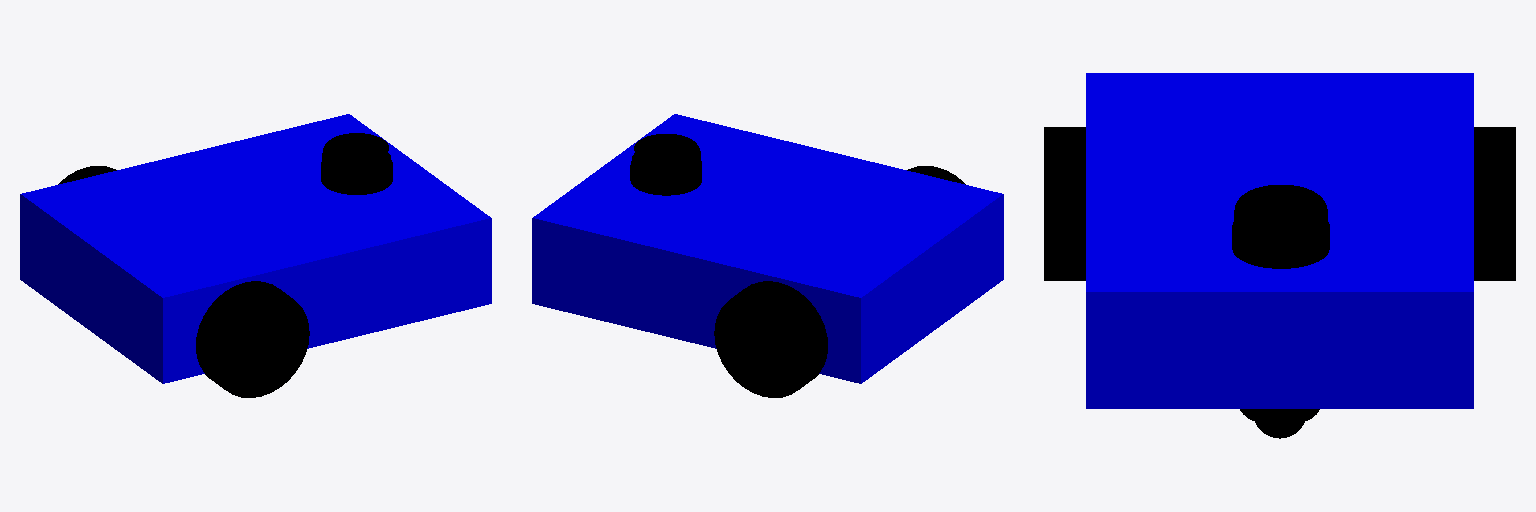
The robot description file, URDF, robot "Eissa":
<?xml version="1.0" ?>
<!-- =================================================================================== -->
<!-- |    This document was autogenerated by xacro from /home/mostafa/Downloads/ETGAH_ws/src/robot_gazebo/urdf/robot.urdf.xacro | -->
<!-- |    EDITING THIS FILE BY HAND IS NOT RECOMMENDED                                 | -->
<!-- =================================================================================== -->
<robot name="Eissa">
  <!-- Shared materials (declared once, referenced by name below) -->
  <material name="blue">
    <color rgba="0 0 1 1"/>
  </material>
  <material name="black">
    <color rgba="0 0 0 1"/>
  </material>
  <material name="gray">
    <color rgba="0.5 0.5 0.5 1"/>
  </material>
  <!-- Macro for wheels-->
  <link name="base_link">
    <visual>
      <origin rpy="0 0 0" xyz="0 0 0"/>
      <geometry>
        <box size="0.4 0.3 0.1"/>
      </geometry>
      <material name="blue"/>
    </visual>
    <collision>
      <origin rpy="0 0 0" xyz="0 0 0"/>
      <geometry>
        <box size="0.4 0.3 0.1"/>
      </geometry>
    </collision>
    <inertial>
      <origin rpy="0 0 0" xyz="0 0 0"/>
      <mass value="0.6"/>
      <!-- Solid-box inertia formula, computed from the same properties
             used for the visual/collision geometry above, so resizing the
             chassis automatically updates the inertia too. -->
      <inertia ixx="0.005" ixy="0" ixz="0" iyy="0.0085" iyz="0" izz="0.012499999999999999"/>
    </inertial>
  </link>
  <link name="base_footprint">
</link>
  <joint name="base_footprint_joint" type="fixed">
    <parent link="base_footprint"/>
    <child link="base_link"/>
    <origin rpy="0 0 0" xyz="0 0 0.1"/>
  </joint>
  <link name="left_wheel">
    <visual>
      <origin rpy="1.570795 0 0 " xyz="0 0 0"/>
      <geometry>
        <cylinder length="0.035" radius="0.06"/>
      </geometry>
      <material name="black"/>
    </visual>
    <collision>
      <origin rpy="1.570795 0 0 " xyz="0 0 0"/>
      <geometry>
        <cylinder length="0.035" radius="0.06"/>
      </geometry>
    </collision>
    <inertial>
      <origin rpy="1.570795 0 0" xyz="0 0 0"/>
      <mass value="0.1"/>
      <!-- Solid-cylinder inertia formula for a wheel spinning about its
             own axis (rotated to match the visual/collision orientation
             above), computed from Wheel_Rad/Wheel_Length/wheel_mass so any
             change to those properties updates the inertia automatically. -->
      <inertia ixx="0.00010020833333333333" ixy="0" ixz="0" iyy="0.00018" iyz="0" izz="0.00010020833333333333"/>
    </inertial>
  </link>
  <joint name="left_wheel_joint" type="continuous">
    <parent link="base_link"/>
    <child link="left_wheel"/>
    <origin rpy="0 0 0" xyz="-0.1 0.165 -0.015"/>
    <axis xyz="0 1 0"/>
  </joint>
  <link name="right_wheel">
    <visual>
      <origin rpy="1.570795 0 0 " xyz="0 0 0"/>
      <geometry>
        <cylinder length="0.035" radius="0.06"/>
      </geometry>
      <material name="black"/>
    </visual>
    <collision>
      <origin rpy="1.570795 0 0 " xyz="0 0 0"/>
      <geometry>
        <cylinder length="0.035" radius="0.06"/>
      </geometry>
    </collision>
    <inertial>
      <origin rpy="1.570795 0 0" xyz="0 0 0"/>
      <mass value="0.1"/>
      <!-- Solid-cylinder inertia formula for a wheel spinning about its
             own axis (rotated to match the visual/collision orientation
             above), computed from Wheel_Rad/Wheel_Length/wheel_mass so any
             change to those properties updates the inertia automatically. -->
      <inertia ixx="0.00010020833333333333" ixy="0" ixz="0" iyy="0.00018" iyz="0" izz="0.00010020833333333333"/>
    </inertial>
  </link>
  <joint name="right_wheel_joint" type="continuous">
    <parent link="base_link"/>
    <child link="right_wheel"/>
    <origin rpy="0 0 0" xyz="-0.1 -0.165 -0.015"/>
    <axis xyz="0 1 0"/>
  </joint>
  <!-- Lidar and Camera meshes-->
  <link name="lidar_link">
    <visual>
      <origin rpy="0 0 0" xyz="0 0 0"/>
      <geometry>
        <mesh filename="package://robot_gazebo/meshes/lidar.STL"/>
      </geometry>
      <material name="black"/>
    </visual>
    <collision>
      <origin rpy="0 0 0" xyz="0 0 0"/>
      <geometry>
        <cylinder length="0.04" radius="0.06"/>
      </geometry>
    </collision>
    <inertial>
      <mass value="0.2"/>
      <origin rpy="0 0 0" xyz="0 0 0"/>
      <!-- Solid-cylinder inertia, unrotated (this cylinder stands upright,
         matching the collision geometry above), from lidar_radius/
         lidar_length/lidar_mass. -->
      <inertia ixx="0.00020666666666666668" ixy="0.0" ixz="0.0" iyy="0.00020666666666666668" iyz="0.0" izz="0.00036"/>
    </inertial>
  </link>
  <joint name="lidar_joint" type="fixed">
    <parent link="base_link"/>
    <child link="lidar_link"/>
    <origin rpy="0 0 0" xyz="0.15 0 0.0825"/>
  </joint>
  <link name="camera_link">
    <visual>
      <origin rpy="0 0 0" xyz="0 0 0"/>
      <geometry>
        <mesh filename="package://robot_gazebo/meshes/zed.stl"/>
      </geometry>
      <material name="gray"/>
    </visual>
    <collision>
      <origin rpy="0 0 0" xyz="0 0 0"/>
      <geometry>
        <box size="0.08 0.03 0.03"/>
      </geometry>
    </collision>
    <inertial>
      <mass value="0.1"/>
      <origin rpy="0 0 0" xyz="0 0 0"/>
      <!-- Solid-box inertia from camera_x_size/camera_y_size/camera_z_size/
         camera_mass, matching the collision box above. -->
      <inertia ixx="1.4999999999999999e-05" ixy="0.0" ixz="0.0" iyy="6.083333333333333e-05" iyz="0.0" izz="6.083333333333333e-05"/>
    </inertial>
  </link>
  <joint name="camera_joint" type="fixed">
    <parent link="base_link"/>
    <child link="camera_link"/>
    <origin rpy="0 0 0" xyz="0.215 0 0.035"/>
  </joint>
  <link name="camera_optical_link"/>
  <joint name="camera_optical_joint" type="fixed">
    <parent link="camera_link"/>
    <child link="camera_optical_link"/>
    <origin rpy="-1.570795 0 -1.570795" xyz="0 0 0"/>
  </joint>
  <!-- Caster wheel: real two-joint version.
     A caster physically needs two independent rotations to behave like a
     real free-rolling wheel: it must turn sideways to follow the robot's
     direction of travel (swivel, about the vertical Z axis) and it must
     roll forward (about its horizontal axle, the Y axis). A single joint
     cannot represent two independent rotations, so this requires an
     intermediate link between the two joints:
       base_link, swivel joint (continuous, axis z), caster_swivel_link
       caster_swivel_link, roll joint (continuous, axis y), caster_wheel (mesh)
     caster_swivel_link is intentionally a small mechanism-only frame (mass
     for numerical stability only, no visual/collision geometry): it does
     not represent a distinct physical part of the robot, only the pivot
     point between the two rotations. The actual caster wheel geometry
     lives entirely on caster_wheel below.
     The mesh-alignment rotation is kept on the wheel link's own
     visual/collision origin (not on either joint), so both joints stay
     clean and axis-aligned, exactly like the two main wheels above. -->
  <link name="caster_swivel_link">
    <inertial>
      <origin rpy="0 0 0" xyz="0 0 0"/>
      <mass value="0.01"/>
      <inertia ixx="1e-6" ixy="0" ixz="0" iyy="1e-6" iyz="0" izz="1e-6"/>
    </inertial>
  </link>
  <joint name="caster_swivel_joint" type="continuous">
    <parent link="base_link"/>
    <child link="caster_swivel_link"/>
    <origin rpy="0 0 0" xyz="0.15 0 -0.03"/>
    <axis xyz="0 0 1"/>
  </joint>
  <link name="caster_wheel">
    <visual>
      <origin rpy="-1.570795 0 -1.570795" xyz="0 0 0"/>
      <geometry>
        <mesh filename="package://robot_gazebo/meshes/Caster_Wheel.stl" scale="3 3 3"/>
      </geometry>
      <material name="black"/>
    </visual>
    <collision>
      <origin rpy="1.570795 0 0" xyz="0 0 0"/>
      <geometry>
        <cylinder length="0.02" radius="0.03"/>
      </geometry>
    </collision>
    <inertial>
      <origin rpy="1.570795 0 0" xyz="0 0 0"/>
      <mass value="0.05"/>
      <!-- Same solid-cylinder wheel formula as the two main wheels,
             rotated the same way to match the collision geometry above. -->
      <inertia ixx="1.2916666666666668e-05" ixy="0" ixz="0" iyy="2.25e-05" iyz="0" izz="1.2916666666666668e-05"/>
    </inertial>
  </link>
  <joint name="caster_wheel_joint" type="continuous">
    <parent link="caster_swivel_link"/>
    <child link="caster_wheel"/>
    <origin rpy="0 0 0" xyz="0 0 -0.02"/>
    <axis xyz="0 1 0"/>
  </joint>
</robot>

--- Facts derived from the render (not from the file) ---
The picture shows the robot from 3 angles, left to right: view 1: azimuth 30°, elevation 25°; view 2: azimuth 150°, elevation 25°; view 3: azimuth 270°, elevation 25°; orthographic projection.
Robot: Eissa — 9 links, 8 joints (4 continuous, 4 fixed); root link base_footprint; default pose: every joint at zero.
Links seen in each view (by area): view 1: base_link, right_wheel, lidar_link; view 2: base_link, left_wheel, lidar_link; view 3: base_link, lidar_link, left_wheel, right_wheel, caster_wheel.
Boxes of the visible links, x1=… form: base_link: x1=20, y1=114, x2=491, y2=383; right_wheel: x1=196, y1=281, x2=309, y2=397; lidar_link: x1=321, y1=133, x2=392, y2=194; base_link: x1=532, y1=114, x2=1003, y2=383; left_wheel: x1=714, y1=281, x2=827, y2=397; lidar_link: x1=630, y1=134, x2=701, y2=195; base_link: x1=1086, y1=73, x2=1473, y2=408; lidar_link: x1=1232, y1=185, x2=1329, y2=268; left_wheel: x1=1474, y1=127, x2=1515, y2=280; right_wheel: x1=1044, y1=127, x2=1085, y2=280; caster_wheel: x1=1240, y1=409, x2=1319, y2=438.
Size in the robot's own frame: 0.4 by 0.365 by 0.1893 metres.
2 mesh visuals loaded from 3 distinct referenced files (1 binary STL, 1 ASCII STL); not drawn: 1 (reference not matched to a file when rendering).
